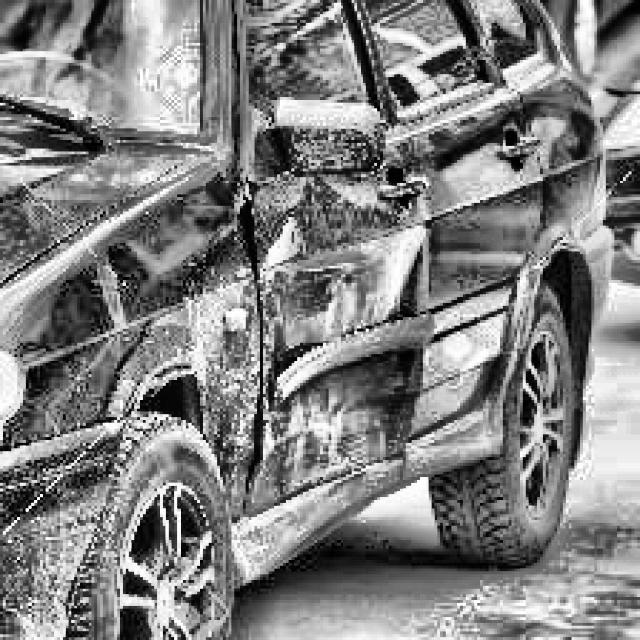door_dent: (190, 171, 412, 494)
